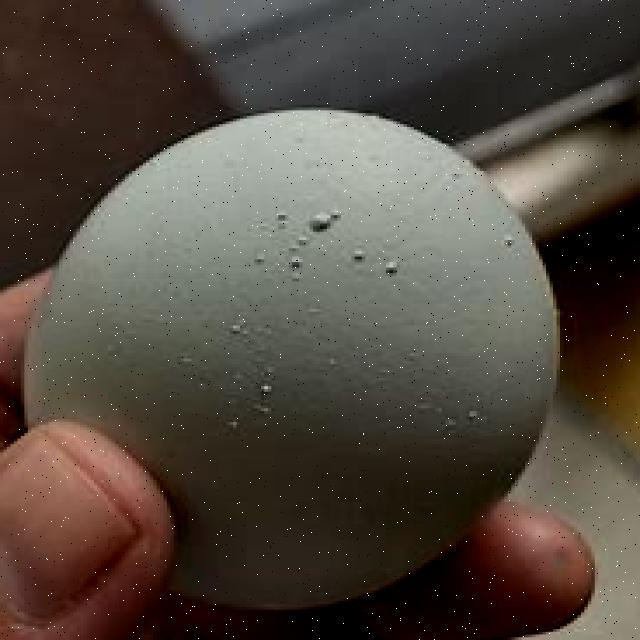Calcium Deposit Egg: (10, 89, 590, 621)
